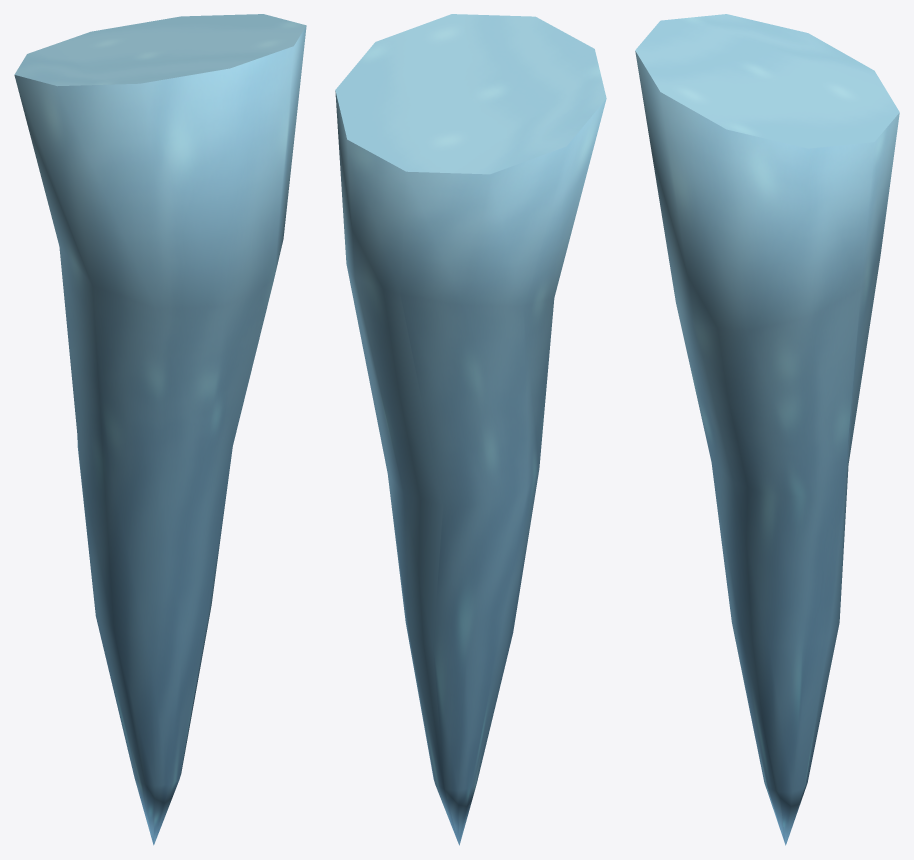
Rendered from Icicle.fbx.
3 views of the same model, side by side, from view 1: azimuth 30°, elevation 25°; view 2: azimuth 150°, elevation 25°; view 3: azimuth 270°, elevation 25° (orthographic). The views are drawn at different scales.
Parts seen in each view (by area): view 1: Cylinder; view 2: Cylinder; view 3: Cylinder.
Part boxes in pixels (<box>): Cylinder: <box>14,14,306,845</box>; Cylinder: <box>335,14,606,845</box>; Cylinder: <box>635,14,899,845</box>.
Size of the model in its own units: 78.79 by 253 by 76.29.
